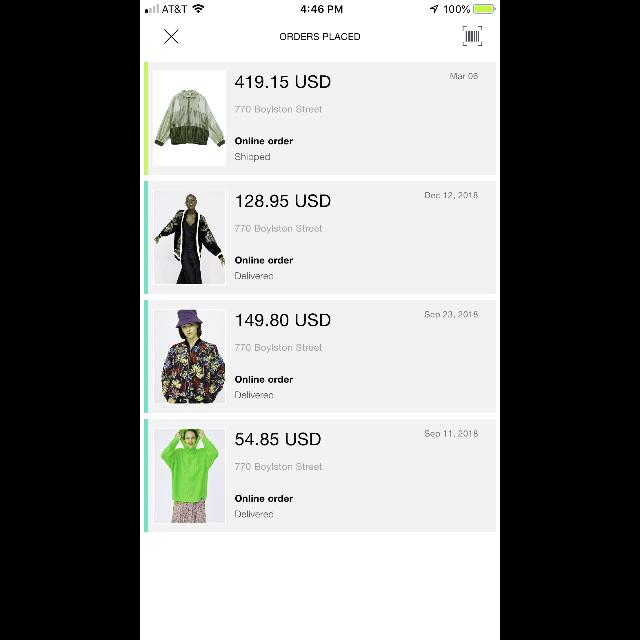icon: (164, 30, 180, 44)
image: (154, 428, 226, 524), (154, 190, 226, 286), (154, 310, 226, 404), (154, 72, 226, 166), (463, 27, 483, 47)
text: (236, 75, 330, 88), (237, 195, 331, 208), (236, 432, 320, 446), (236, 314, 330, 326), (235, 462, 322, 472), (235, 224, 322, 233), (235, 343, 322, 352), (235, 106, 322, 114), (280, 34, 360, 40), (235, 256, 293, 264), (235, 494, 293, 502), (424, 192, 478, 200), (424, 311, 478, 319), (424, 430, 478, 438), (235, 138, 293, 144), (235, 376, 293, 382), (236, 272, 274, 280), (236, 510, 274, 518), (236, 154, 270, 162), (236, 392, 274, 398), (450, 73, 478, 79)
uppertaskbar: (140, 0, 500, 14)
